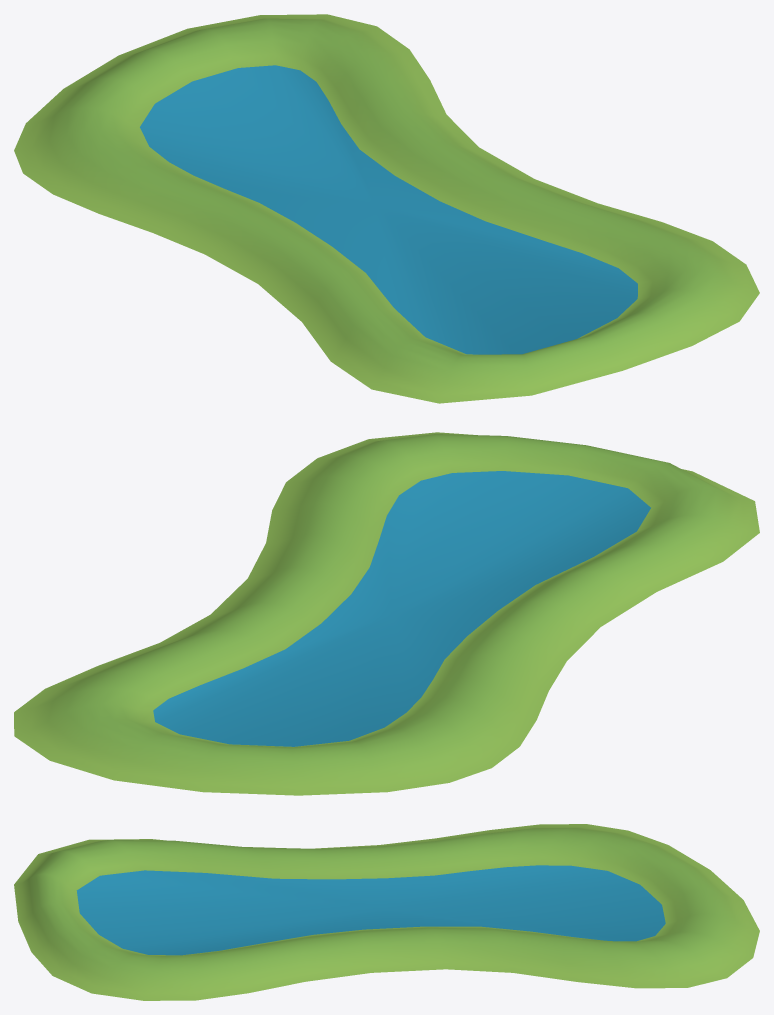
File: Water1.fbx
3 renders of one model, top to bottom at view 1: azimuth 30°, elevation 25°; view 2: azimuth 150°, elevation 25°; view 3: azimuth 270°, elevation 25°, orthographic. The views are drawn at different scales.
Visible parts, largest first — view 1: Circle.002; view 2: Circle.002; view 3: Circle.002.
Part boxes in pixels (left/top/right/bottom): Circle.002: left=14, top=14, right=759, bottom=403; Circle.002: left=14, top=432, right=759, bottom=795; Circle.002: left=14, top=824, right=759, bottom=1000.
Size of the model in its own units: 5.92 by 0.2417 by 10.54.
